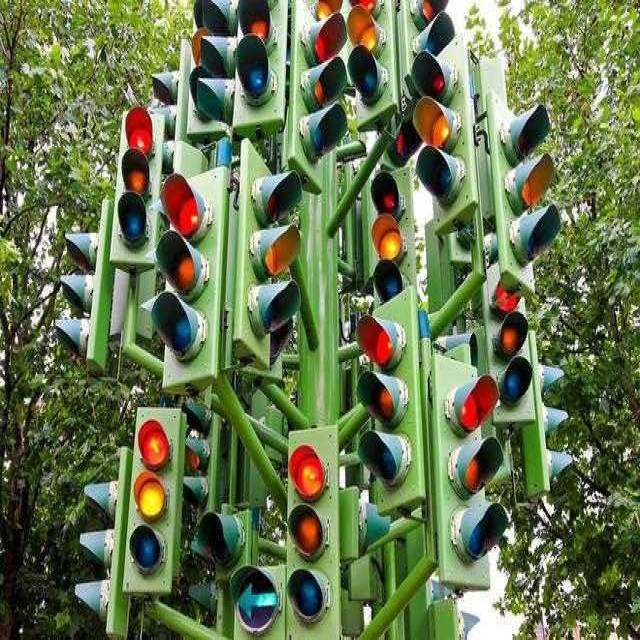Traffic Light -Green-: (435, 504, 503, 582), (147, 294, 210, 361), (283, 568, 339, 636), (236, 42, 274, 114), (499, 362, 542, 418), (128, 523, 170, 580), (350, 49, 385, 106), (114, 200, 149, 248)
Traffic Light -Red-: (440, 362, 495, 436), (358, 308, 412, 376), (162, 175, 219, 235), (287, 435, 335, 501), (134, 410, 181, 465), (303, 14, 349, 61), (122, 111, 165, 157)
Traffic Light -Yellow-: (438, 434, 504, 501), (348, 369, 414, 431), (491, 153, 558, 210), (155, 232, 213, 297), (245, 219, 305, 280), (280, 502, 339, 564), (411, 95, 467, 148), (126, 473, 174, 519), (493, 312, 538, 359), (366, 218, 410, 264), (116, 152, 160, 195), (347, 12, 386, 50)
